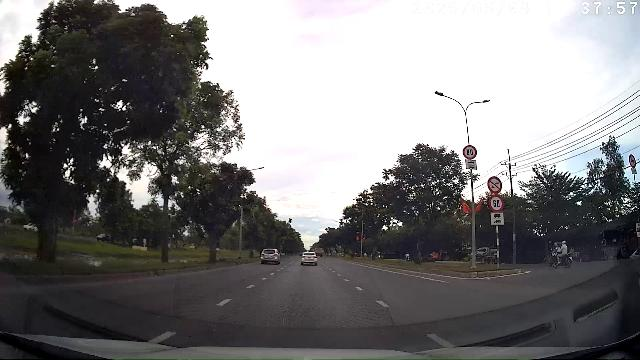127-toc-do-toi-da-60: (488, 196, 504, 212)
127-toc-do-toi-da-80: (463, 146, 477, 158)
